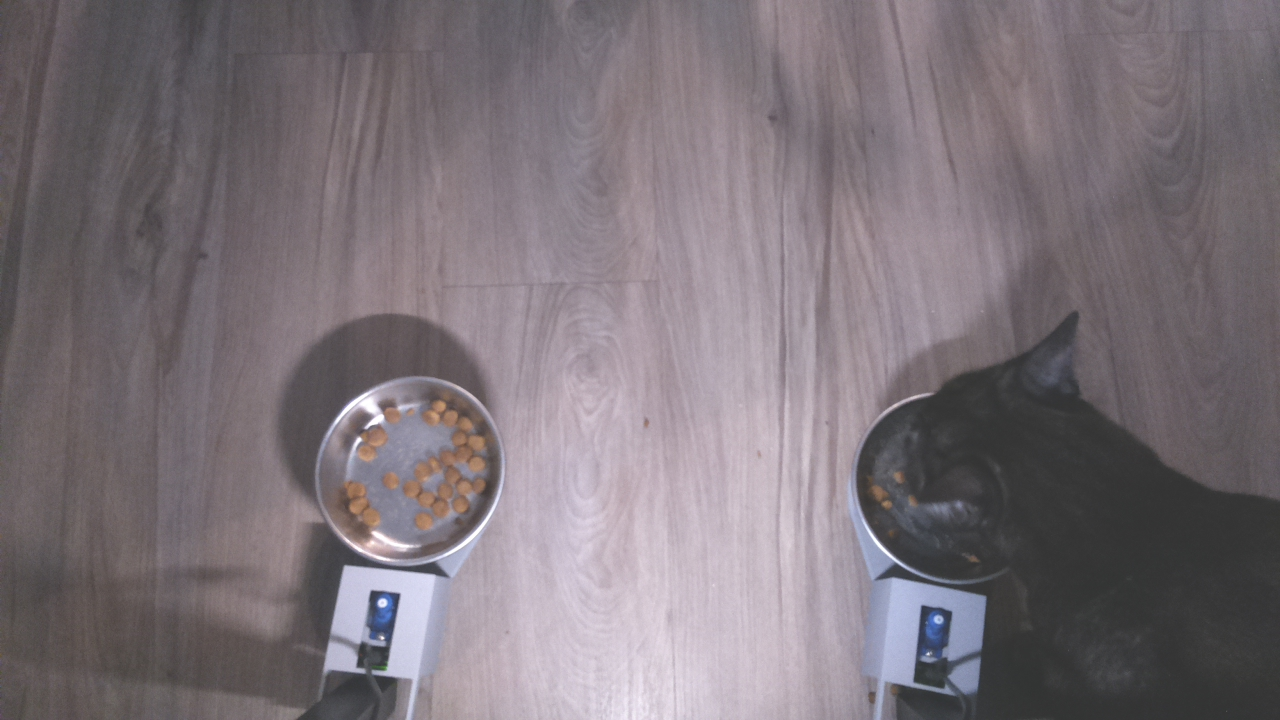open_bowl: (311, 372, 507, 576)
saki_eating: (843, 306, 1136, 597)
